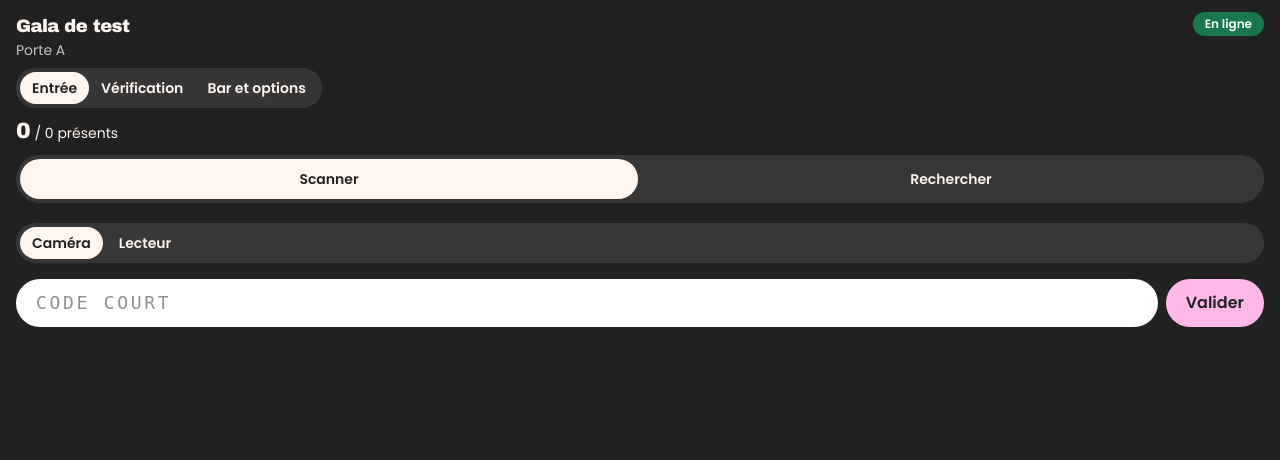
Scenario: application du scanner : chaque mode appelle le bon service › bar et options : les options du billet sont cherchées, l'entrée n'est jamais validée
Expected: the text "Gala de test" is shown, [16,16,130,36]
Click the button "Bar et options". click: (257, 88)
box: [195,72,318,104]
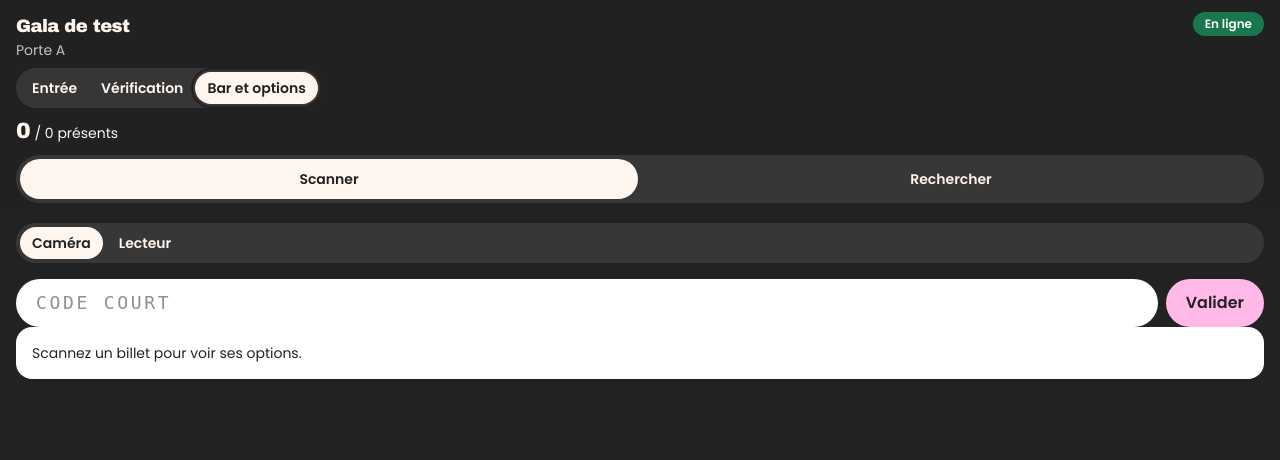
Type "ABC123" into the field with placeholder "Code court". click: (587, 303)
box: [16,279,1158,327]
Then press Enter
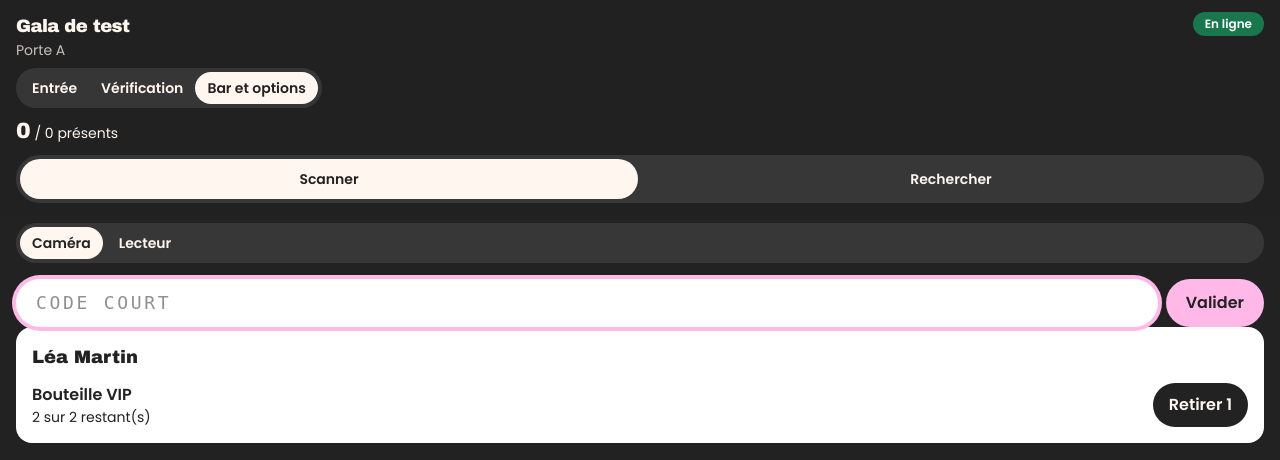
Expected: the text "Bouteille VIP" is shown, [32,383,132,406]
